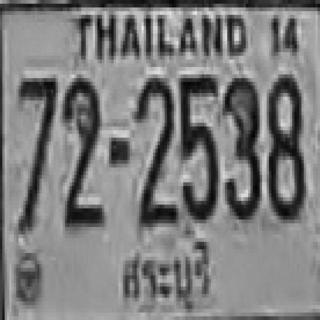N02: (136, 74, 175, 223), (62, 76, 101, 225)
N03: (222, 76, 258, 218)
N05: (177, 71, 217, 219)
N07: (16, 74, 56, 227), (16, 74, 56, 182)
N08: (267, 71, 304, 216)
P60: (118, 242, 217, 309)
